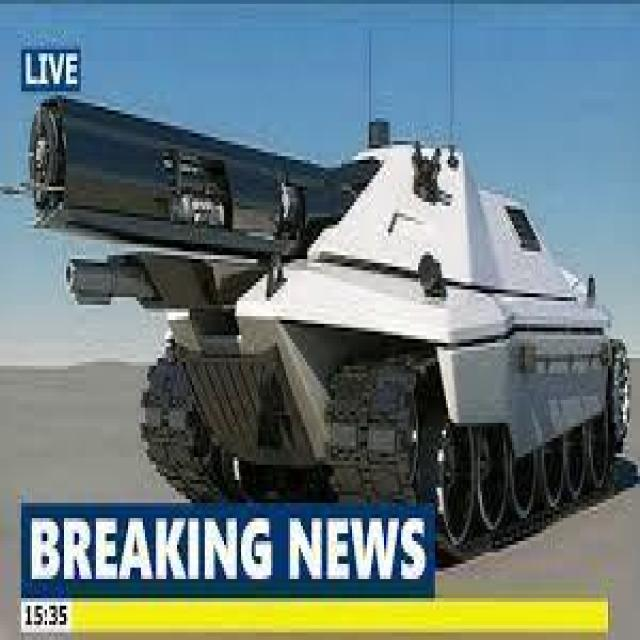Tanks: (33, 93, 630, 554)
